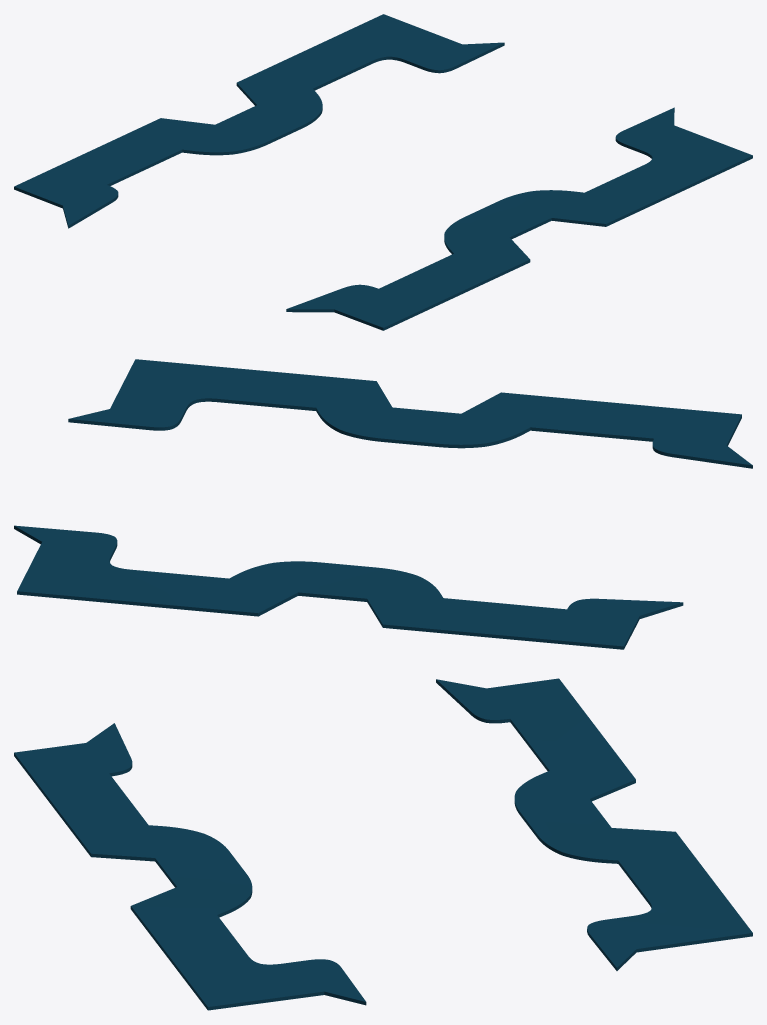
The model's file is Navy second level.FBX.
3 views of the same model, one above another, from view 1: azimuth 30°, elevation 25°; view 2: azimuth 150°, elevation 25°; view 3: azimuth 270°, elevation 25° (orthographic). The views are drawn at different scales.
Visible parts, largest first — view 1: Ground006; view 2: Ground006; view 3: Ground006.
Part boxes in pixels (bbox=[...]): Ground006: bbox=[14, 14, 752, 330]; Ground006: bbox=[14, 359, 752, 649]; Ground006: bbox=[14, 678, 752, 1010].
Bounding box in the file's own units: 2684 × 14.16 × 2550.
